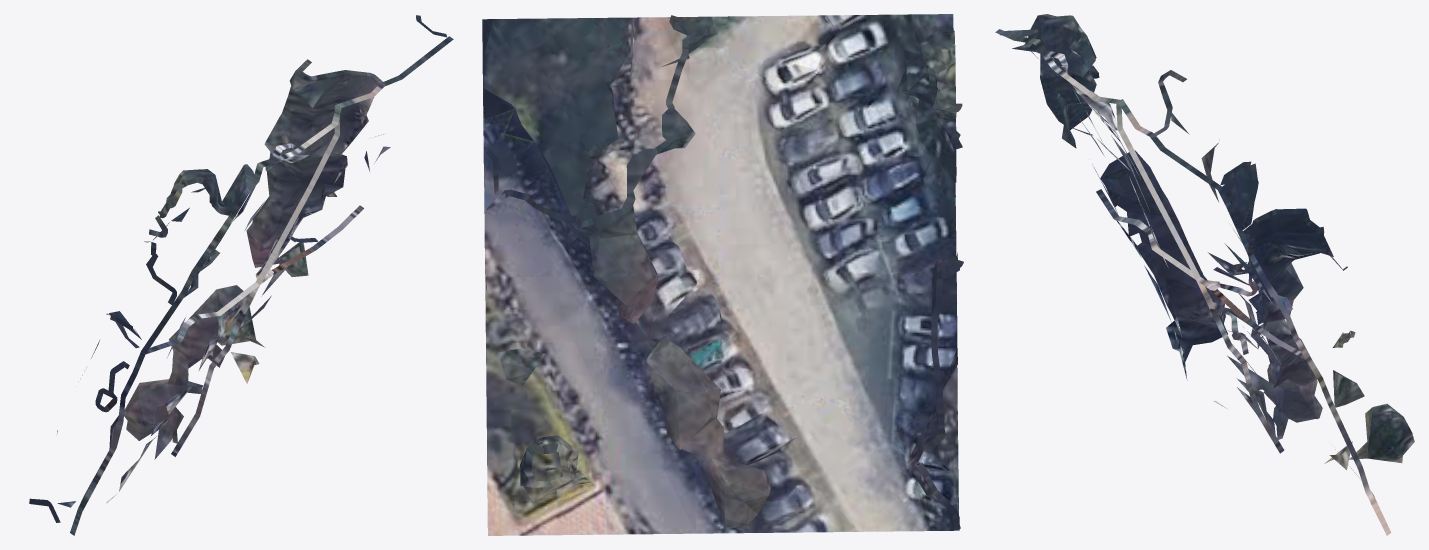
3 views of the same model, side by side, from view 1: azimuth 30°, elevation 25°; view 2: azimuth 150°, elevation 25°; view 3: azimuth 270°, elevation 25° (orthographic). The views are drawn at different scales.
Bounding box in the file's own units: 41.11 × 37.43 × 33.72.
2 materials, 2 textured.
